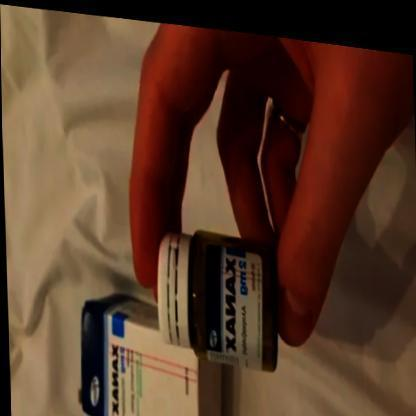jar: (155, 228, 278, 375)
